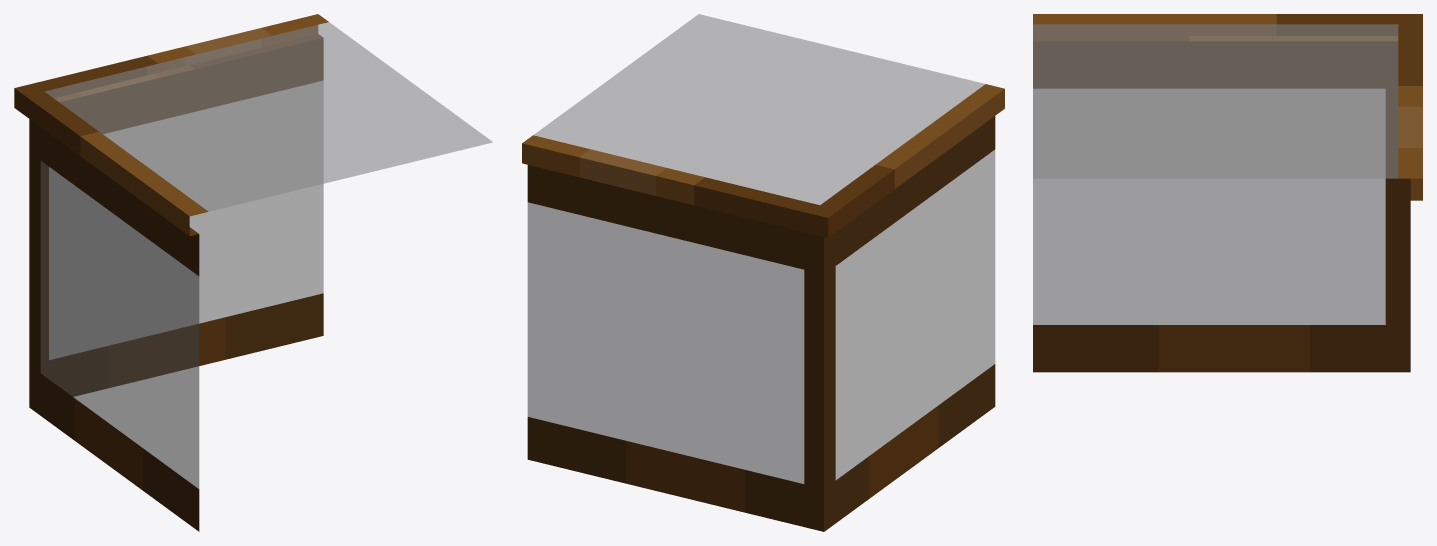
Rendered from counter_518x20.gltf.
3 renders of one model, left to right at view 1: azimuth 30°, elevation 25°; view 2: azimuth 150°, elevation 25°; view 3: azimuth 270°, elevation 25°, orthographic. The views are drawn at different scales.
Visible parts, largest first — view 1: Counter_518x20; view 2: Counter_518x20; view 3: Counter_518x20.
Part boxes in pixels (left/top/right/bottom): Counter_518x20: left=14, top=14, right=492, bottom=531; Counter_518x20: left=522, top=14, right=1004, bottom=531; Counter_518x20: left=1033, top=14, right=1422, bottom=372.
Bounding box in the file's own units: 2.07 × 2.07 × 2.07.
1 material, 1 textured.
